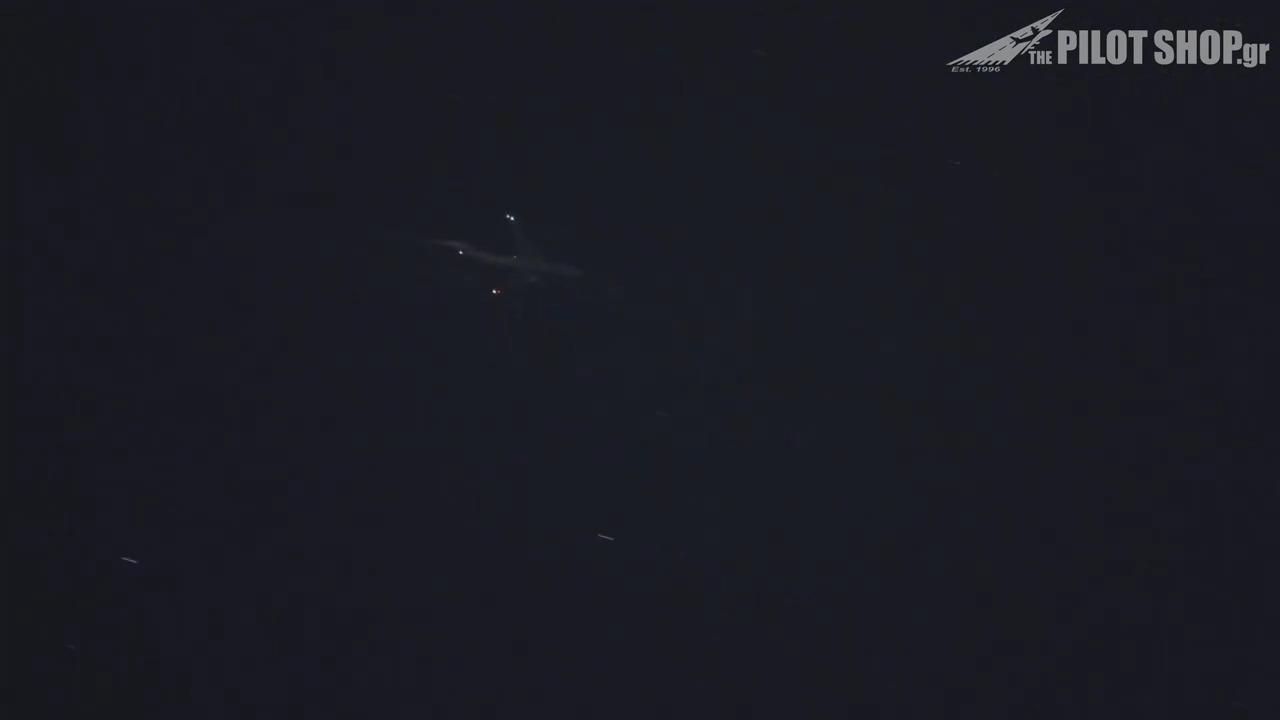Plane: (373, 197, 654, 315)
